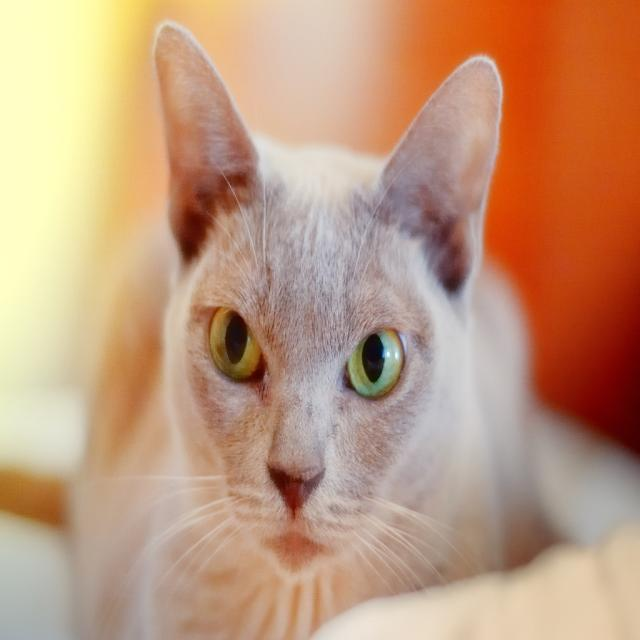Cat: (69, 17, 639, 639)
